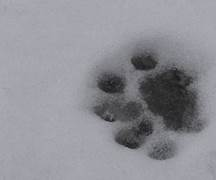lynx: (87, 49, 205, 161)
